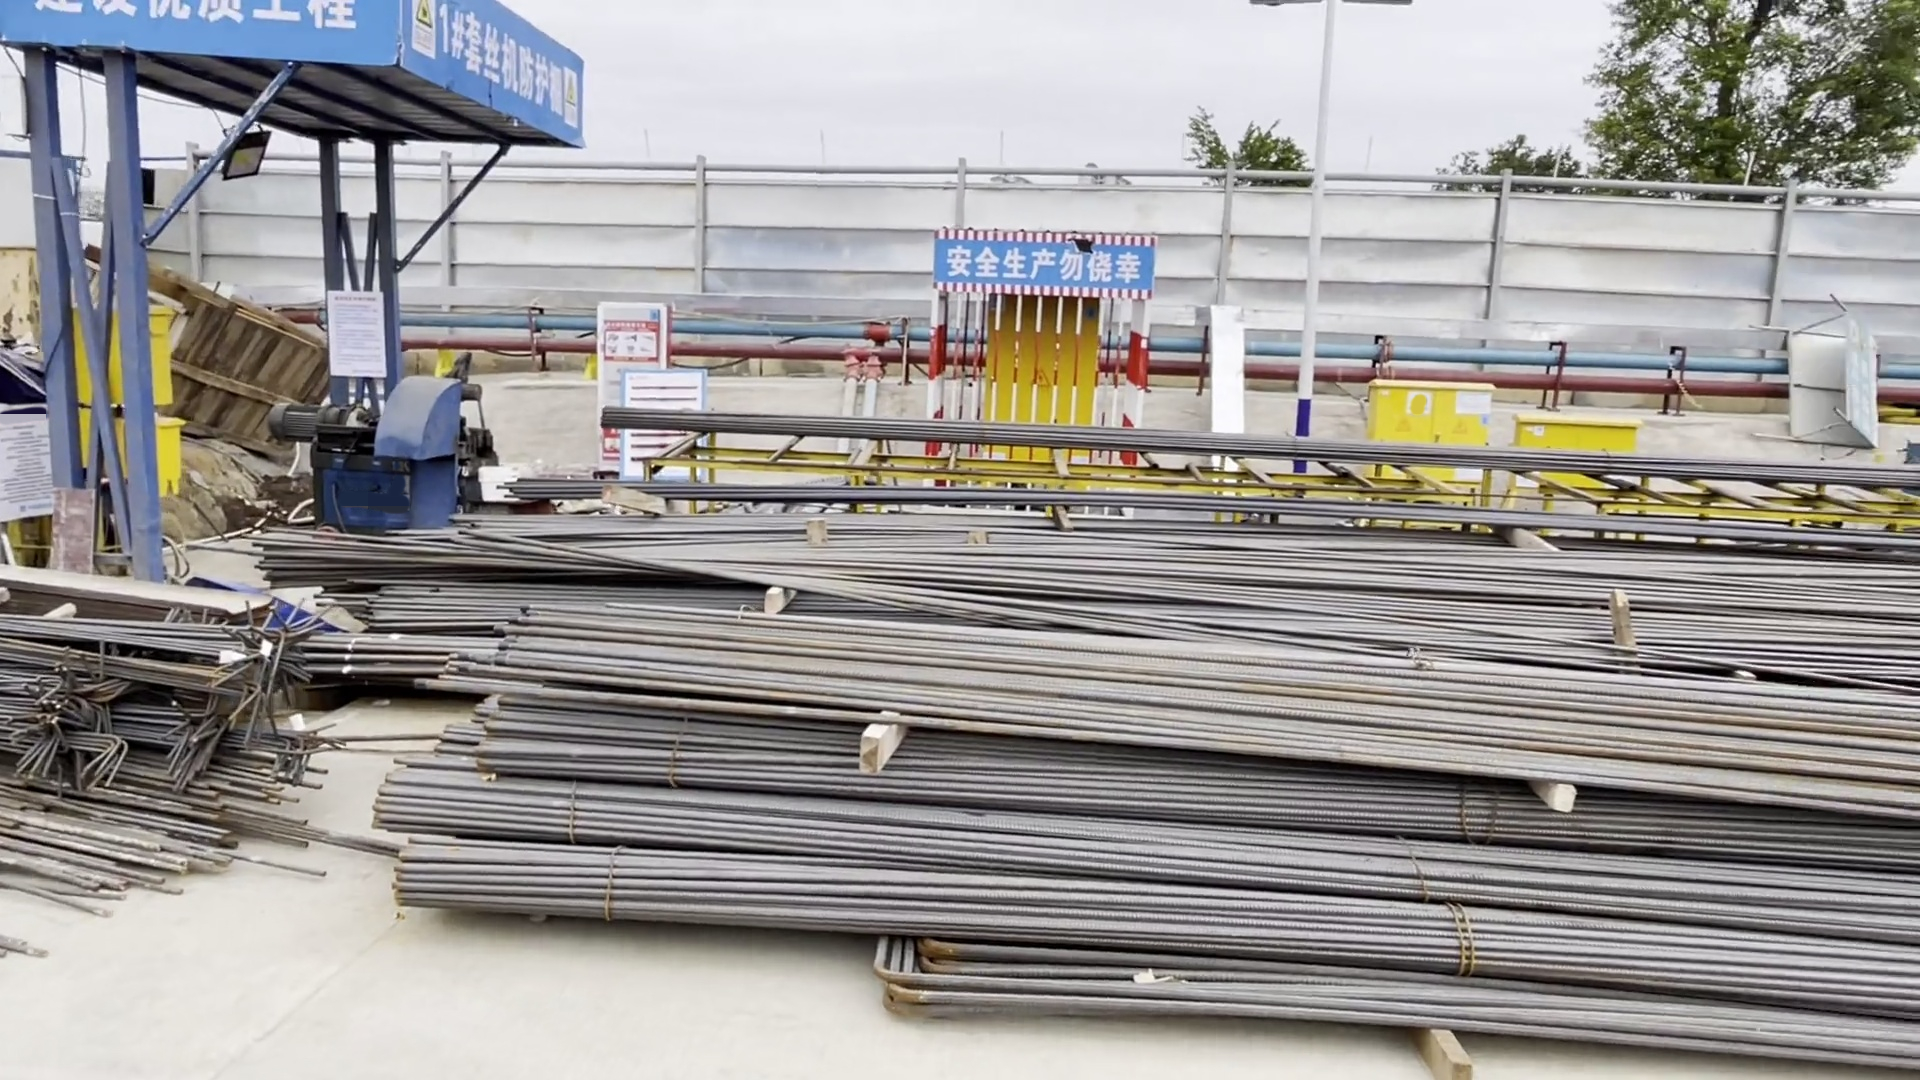ebox: (63, 295, 186, 504), (981, 301, 1105, 459), (1365, 373, 1502, 480), (1509, 413, 1639, 497)
fence: (407, 196, 1917, 380)
rebar: (485, 480, 1920, 1062)
slogan: (938, 228, 1153, 297), (430, 22, 585, 115), (1, 1, 385, 28)
